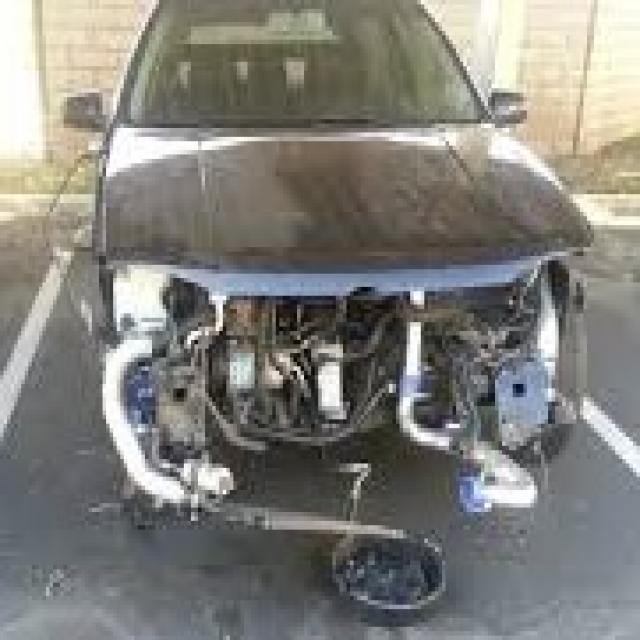severe: (72, 175, 602, 607)
